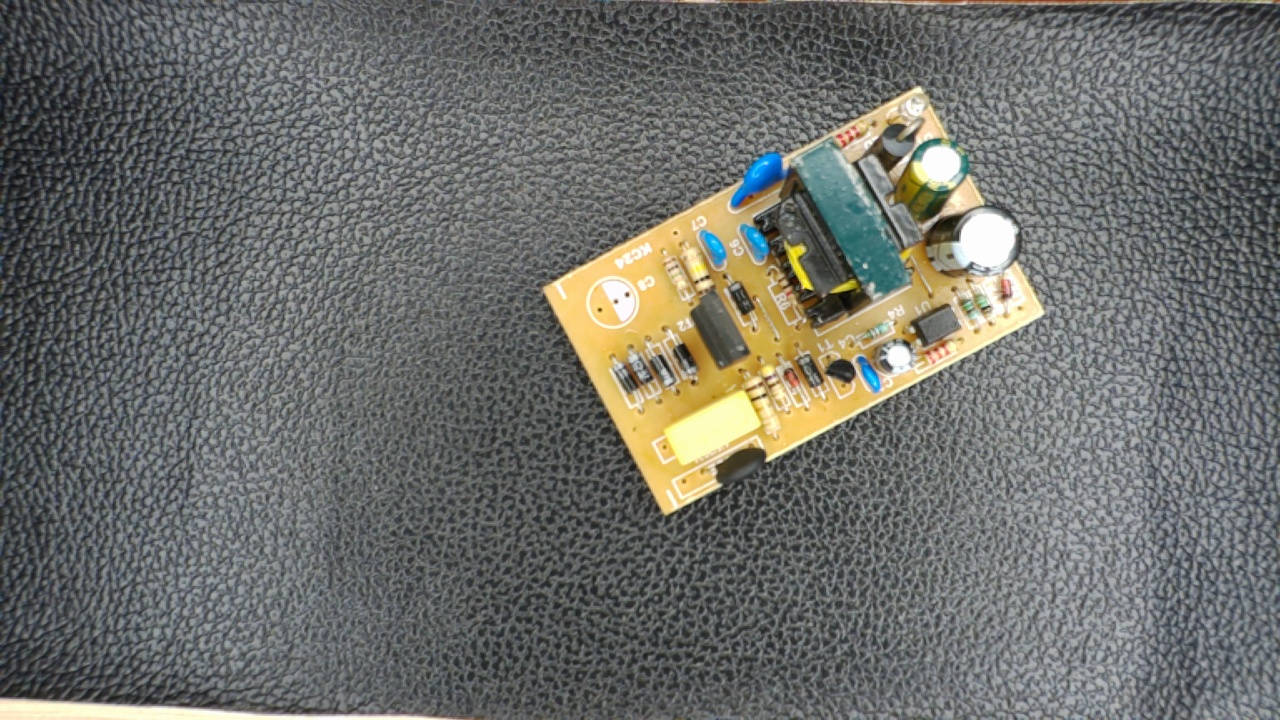fuse: (692, 444, 776, 492)
mov: (723, 153, 795, 215)
optocoupler: (905, 302, 965, 350)
